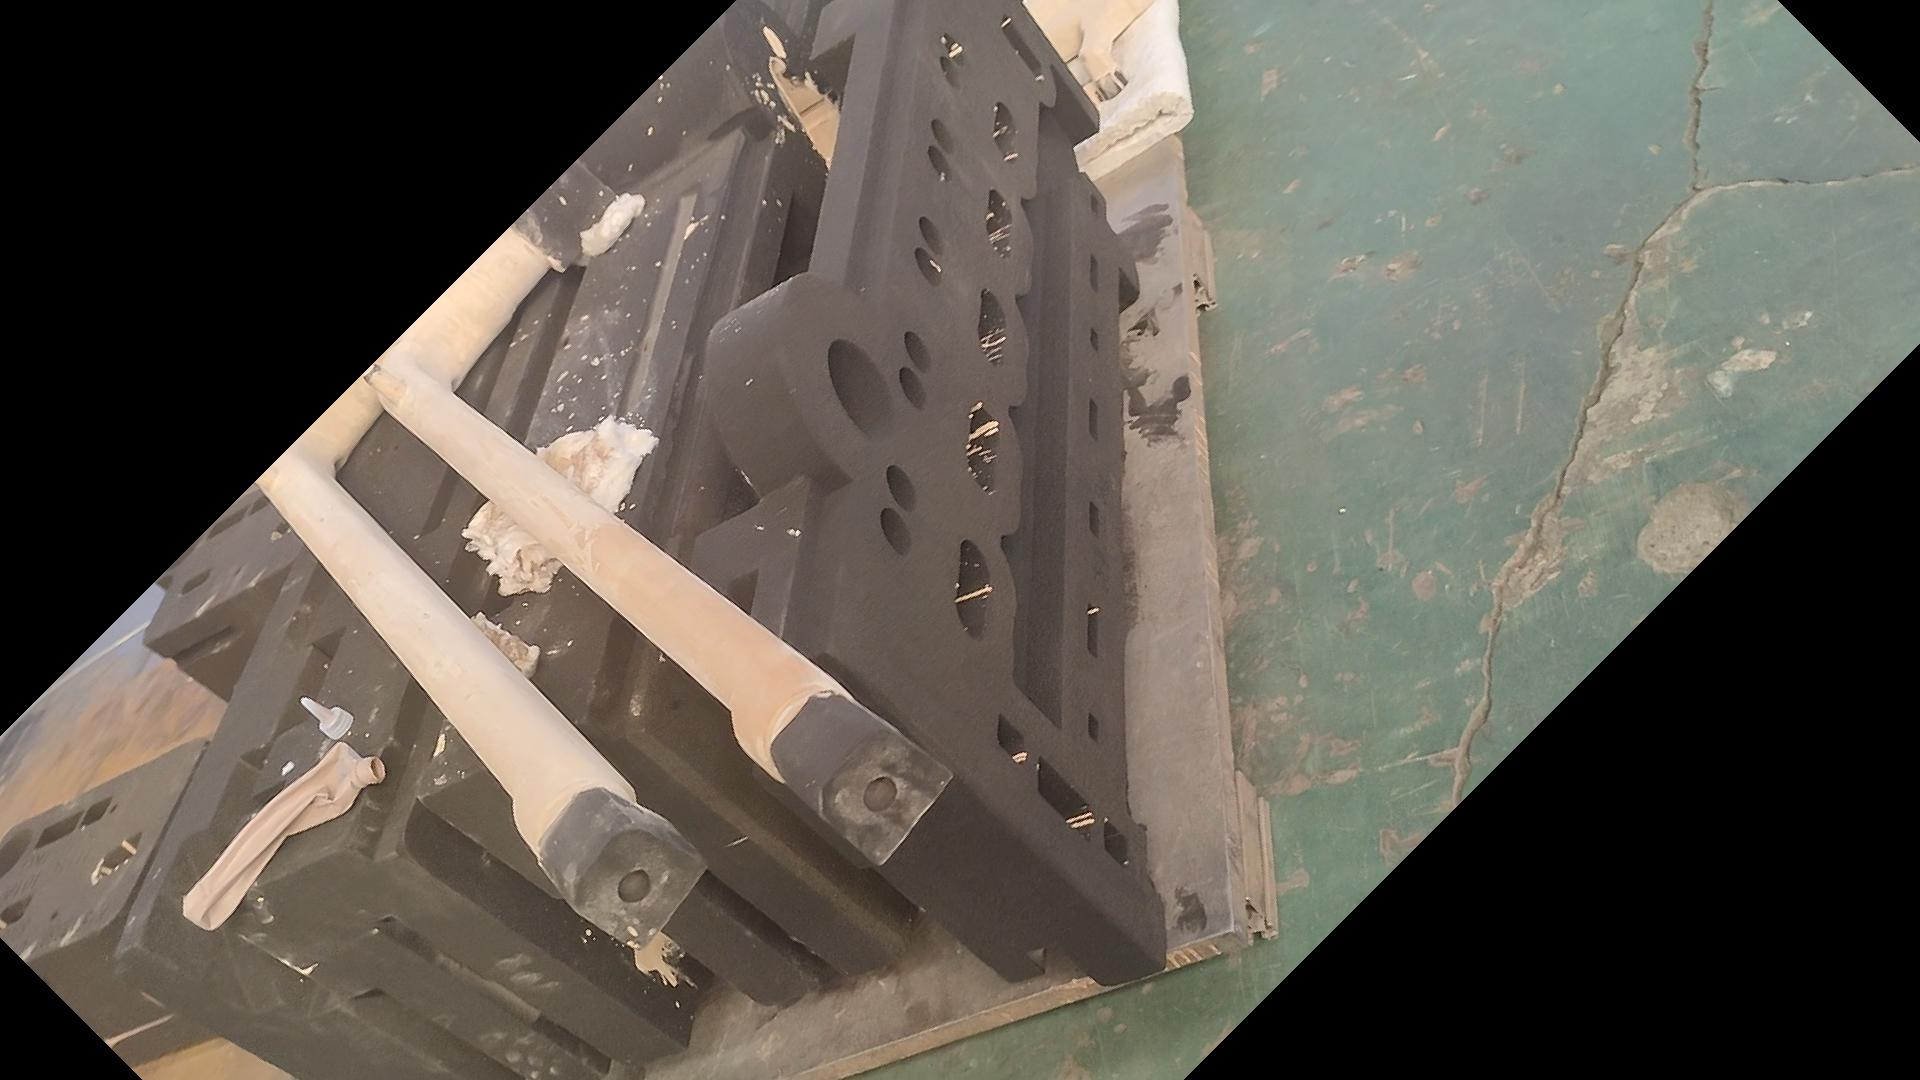pouring hole: (825, 338, 901, 442), (146, 527, 200, 571), (1, 828, 36, 880)
